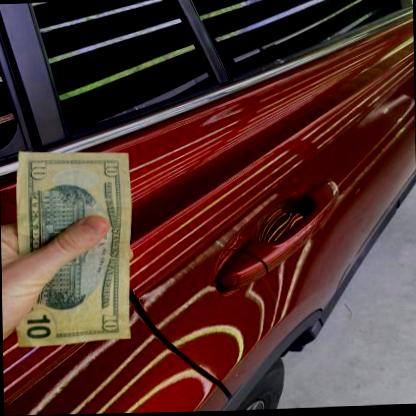ten-back: (17, 151, 130, 347)
